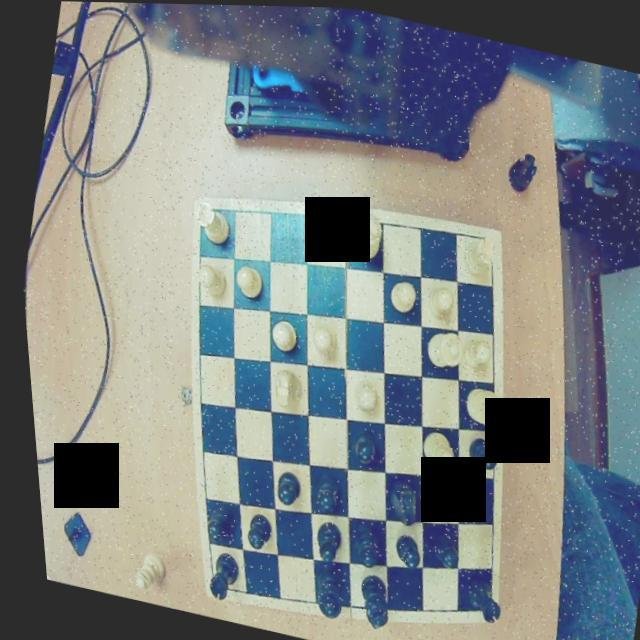chess-table-corners: (186, 196, 217, 228), (468, 223, 498, 252), (466, 589, 492, 622), (193, 573, 220, 600)
